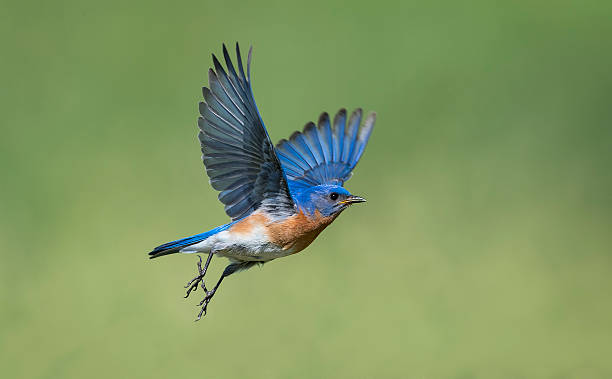Bird: (145, 36, 377, 325)
